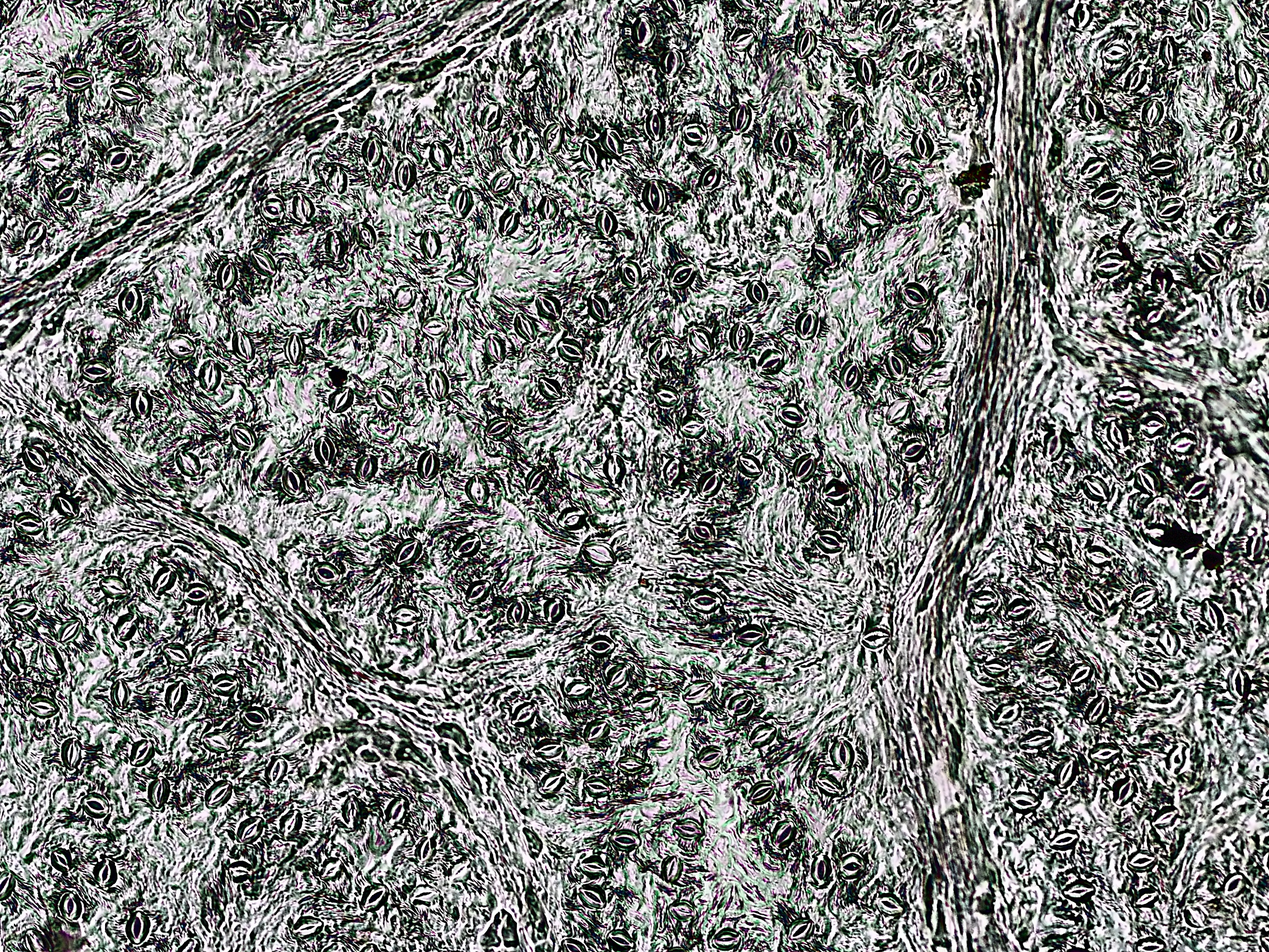stomata: (630, 15, 661, 51), (828, 736, 858, 769), (641, 179, 668, 215), (576, 882, 609, 911), (582, 540, 617, 567), (109, 82, 145, 108), (392, 537, 422, 568), (862, 627, 895, 654), (61, 736, 87, 770), (911, 128, 937, 162), (1229, 666, 1254, 701), (35, 145, 66, 173), (792, 309, 820, 340), (898, 281, 929, 309), (743, 779, 776, 805), (118, 284, 143, 318), (728, 320, 753, 354), (126, 910, 150, 945), (729, 100, 753, 135), (426, 369, 452, 401), (815, 528, 847, 554), (510, 131, 535, 164), (312, 435, 337, 468), (465, 475, 490, 508), (682, 680, 715, 705), (56, 616, 84, 645), (425, 141, 453, 170), (602, 454, 628, 485), (671, 817, 706, 840), (291, 192, 316, 224), (1095, 253, 1127, 278), (1164, 743, 1189, 775), (1187, 0, 1211, 33), (1236, 59, 1258, 95), (174, 447, 201, 476), (230, 421, 257, 450), (360, 885, 389, 912), (4, 644, 30, 674), (280, 467, 306, 497), (839, 361, 865, 391), (822, 480, 852, 506), (165, 334, 196, 359), (57, 891, 82, 922), (79, 359, 114, 381), (10, 512, 45, 534), (795, 25, 817, 60), (27, 694, 59, 718), (341, 795, 365, 827), (360, 134, 384, 166), (484, 416, 516, 440), (61, 69, 94, 92), (200, 360, 223, 393), (164, 680, 187, 713), (394, 158, 417, 191), (445, 270, 481, 291), (523, 467, 550, 495), (885, 397, 912, 425), (1018, 730, 1054, 751), (230, 333, 256, 362), (838, 853, 867, 879), (81, 793, 111, 818), (384, 797, 409, 827), (352, 221, 377, 251), (1133, 465, 1158, 495), (1128, 586, 1158, 611), (994, 699, 1024, 724), (643, 108, 665, 142), (418, 229, 442, 260), (777, 404, 808, 428), (1091, 742, 1122, 766), (736, 624, 768, 647), (815, 774, 847, 797), (1148, 152, 1180, 175), (241, 704, 269, 730), (535, 294, 563, 320), (1183, 905, 1211, 931), (41, 646, 66, 675), (279, 810, 304, 839), (696, 163, 721, 192), (669, 260, 694, 289), (1112, 777, 1137, 806), (236, 2, 260, 32), (216, 261, 240, 291), (514, 312, 538, 342), (541, 123, 565, 153), (557, 338, 587, 362), (506, 598, 530, 628), (649, 339, 673, 369), (791, 451, 815, 481), (129, 388, 152, 419), (350, 306, 373, 337), (417, 450, 440, 481), (390, 603, 421, 626), (587, 292, 610, 323), (1054, 759, 1077, 790), (1127, 848, 1158, 871), (110, 679, 132, 711), (610, 830, 642, 852), (856, 55, 878, 87), (1200, 598, 1222, 630), (105, 145, 131, 172), (250, 249, 276, 276), (21, 444, 48, 470), (237, 819, 264, 845), (374, 384, 401, 410), (511, 699, 538, 725), (1196, 247, 1222, 274), (1086, 697, 1112, 724), (151, 567, 176, 595), (94, 859, 119, 887), (536, 193, 561, 221), (393, 283, 418, 311), (480, 101, 504, 130), (312, 561, 341, 585), (578, 140, 602, 169), (537, 771, 566, 795), (1081, 476, 1110, 500), (149, 775, 170, 808), (292, 915, 325, 936), (325, 231, 346, 264), (285, 334, 306, 367), (662, 47, 683, 80), (115, 612, 138, 642), (583, 776, 613, 799), (875, 893, 905, 916), (1079, 92, 1102, 122), (1141, 98, 1163, 129), (1151, 264, 1173, 295), (1062, 882, 1096, 902), (516, 67, 542, 93), (687, 328, 713, 354), (115, 35, 142, 60), (206, 780, 231, 807), (355, 455, 380, 482), (750, 723, 777, 748), (696, 745, 723, 770), (858, 203, 886, 227), (680, 414, 708, 438), (900, 439, 928, 463), (496, 206, 519, 235), (580, 854, 609, 877), (652, 385, 681, 408), (1079, 156, 1108, 179), (1092, 183, 1121, 206), (1157, 198, 1186, 221), (453, 184, 473, 217), (601, 128, 623, 158), (585, 635, 615, 657), (607, 928, 637, 950), (877, 3, 899, 33), (810, 855, 832, 885), (99, 576, 130, 597), (619, 258, 640, 289), (687, 590, 718, 611), (55, 491, 80, 517), (1136, 666, 1162, 691), (130, 739, 154, 766), (329, 386, 353, 413), (565, 677, 592, 701), (885, 352, 909, 379), (758, 351, 786, 374), (1033, 543, 1061, 566), (203, 731, 232, 753), (420, 316, 449, 338), (558, 508, 587, 530), (903, 49, 925, 78), (775, 127, 797, 156), (1139, 416, 1168, 438), (7, 598, 37, 619), (484, 334, 505, 364), (711, 927, 741, 948), (23, 221, 48, 246), (319, 857, 344, 882), (912, 325, 936, 351), (1152, 806, 1178, 830), (264, 758, 287, 785), (736, 453, 763, 476), (1159, 629, 1182, 656), (534, 739, 565, 759), (870, 154, 890, 185), (729, 27, 757, 49), (671, 897, 699, 919), (595, 209, 616, 238), (1045, 432, 1066, 461), (1010, 791, 1039, 812), (467, 580, 491, 605), (539, 376, 564, 400), (1218, 213, 1242, 238), (164, 643, 190, 666), (453, 535, 479, 558), (682, 122, 708, 145), (662, 457, 683, 485), (632, 693, 661, 713), (690, 522, 719, 542), (964, 75, 982, 107), (1159, 37, 1177, 69), (213, 673, 238, 696), (812, 242, 837, 265), (1102, 41, 1127, 64), (544, 597, 566, 623), (699, 471, 721, 497), (663, 855, 683, 883), (1050, 830, 1078, 850), (263, 197, 286, 221), (607, 664, 630, 688), (788, 918, 812, 941), (1086, 588, 1109, 612), (1222, 873, 1245, 897), (1084, 547, 1113, 566), (184, 582, 209, 604), (491, 171, 516, 193), (773, 822, 795, 847), (51, 847, 72, 873), (843, 104, 864, 130), (1108, 420, 1126, 450), (1112, 385, 1139, 405), (584, 719, 607, 742), (230, 860, 254, 882), (55, 182, 76, 207), (326, 167, 347, 192), (1126, 66, 1147, 91), (0, 871, 18, 900), (926, 66, 946, 92), (728, 695, 754, 715), (1005, 599, 1031, 619), (618, 755, 645, 774), (1172, 431, 1194, 454), (901, 187, 922, 211), (1221, 117, 1241, 142), (1034, 671, 1060, 690), (1186, 478, 1209, 499), (1074, 1, 1091, 29), (659, 0, 688, 16), (1253, 157, 1269, 186), (1253, 284, 1269, 313), (449, 859, 470, 881), (1069, 664, 1092, 684), (1133, 891, 1158, 909), (417, 836, 434, 862), (413, 884, 438, 901), (972, 589, 997, 606), (746, 280, 766, 301), (1033, 637, 1054, 656), (1137, 938, 1164, 952), (563, 937, 588, 952), (984, 659, 1007, 675), (0, 102, 16, 124), (178, 938, 202, 952), (321, 940, 349, 952), (1146, 306, 1163, 323), (737, 0, 758, 13), (1258, 31, 1269, 49), (358, 944, 382, 952)
